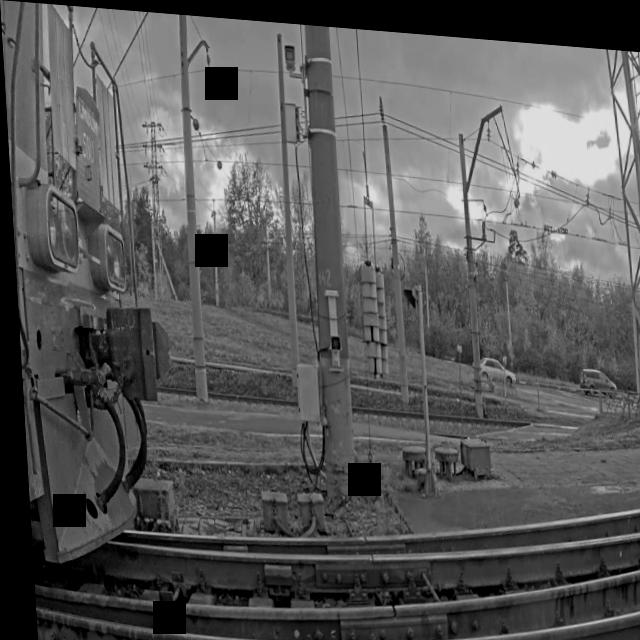tank: (0, 0, 189, 625)
